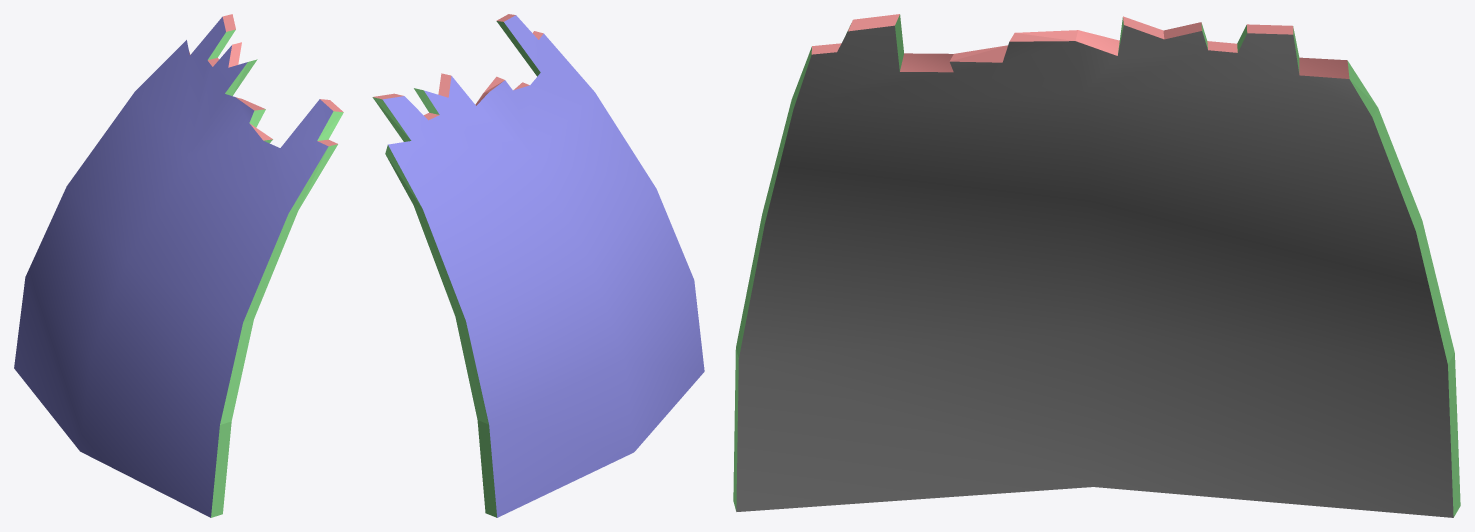
Rendered from PM_Plain_OBJ_03.gltf.
3 views of the same model, side by side, from view 1: azimuth 30°, elevation 25°; view 2: azimuth 150°, elevation 25°; view 3: azimuth 270°, elevation 25° (orthographic). The views are drawn at different scales.
Visible parts, largest first — view 1: PM_Plain_OBJ_03; view 2: PM_Plain_OBJ_03; view 3: PM_Plain_OBJ_03.
Boxes of the visible parts, box(x1,y1,x2,y2) form: PM_Plain_OBJ_03: box(14, 14, 343, 517); PM_Plain_OBJ_03: box(372, 14, 704, 517); PM_Plain_OBJ_03: box(733, 14, 1460, 517).
Bounding box in the file's own units: 0.7663 × 1.22 × 1.29.
